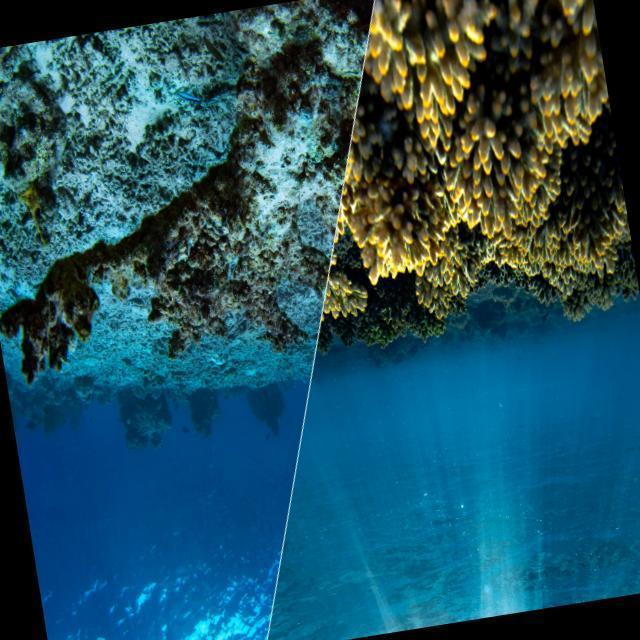Dead Coral: (0, 58, 340, 399)
